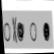correct: (41, 20, 52, 44)
not correct: (10, 14, 27, 45)
